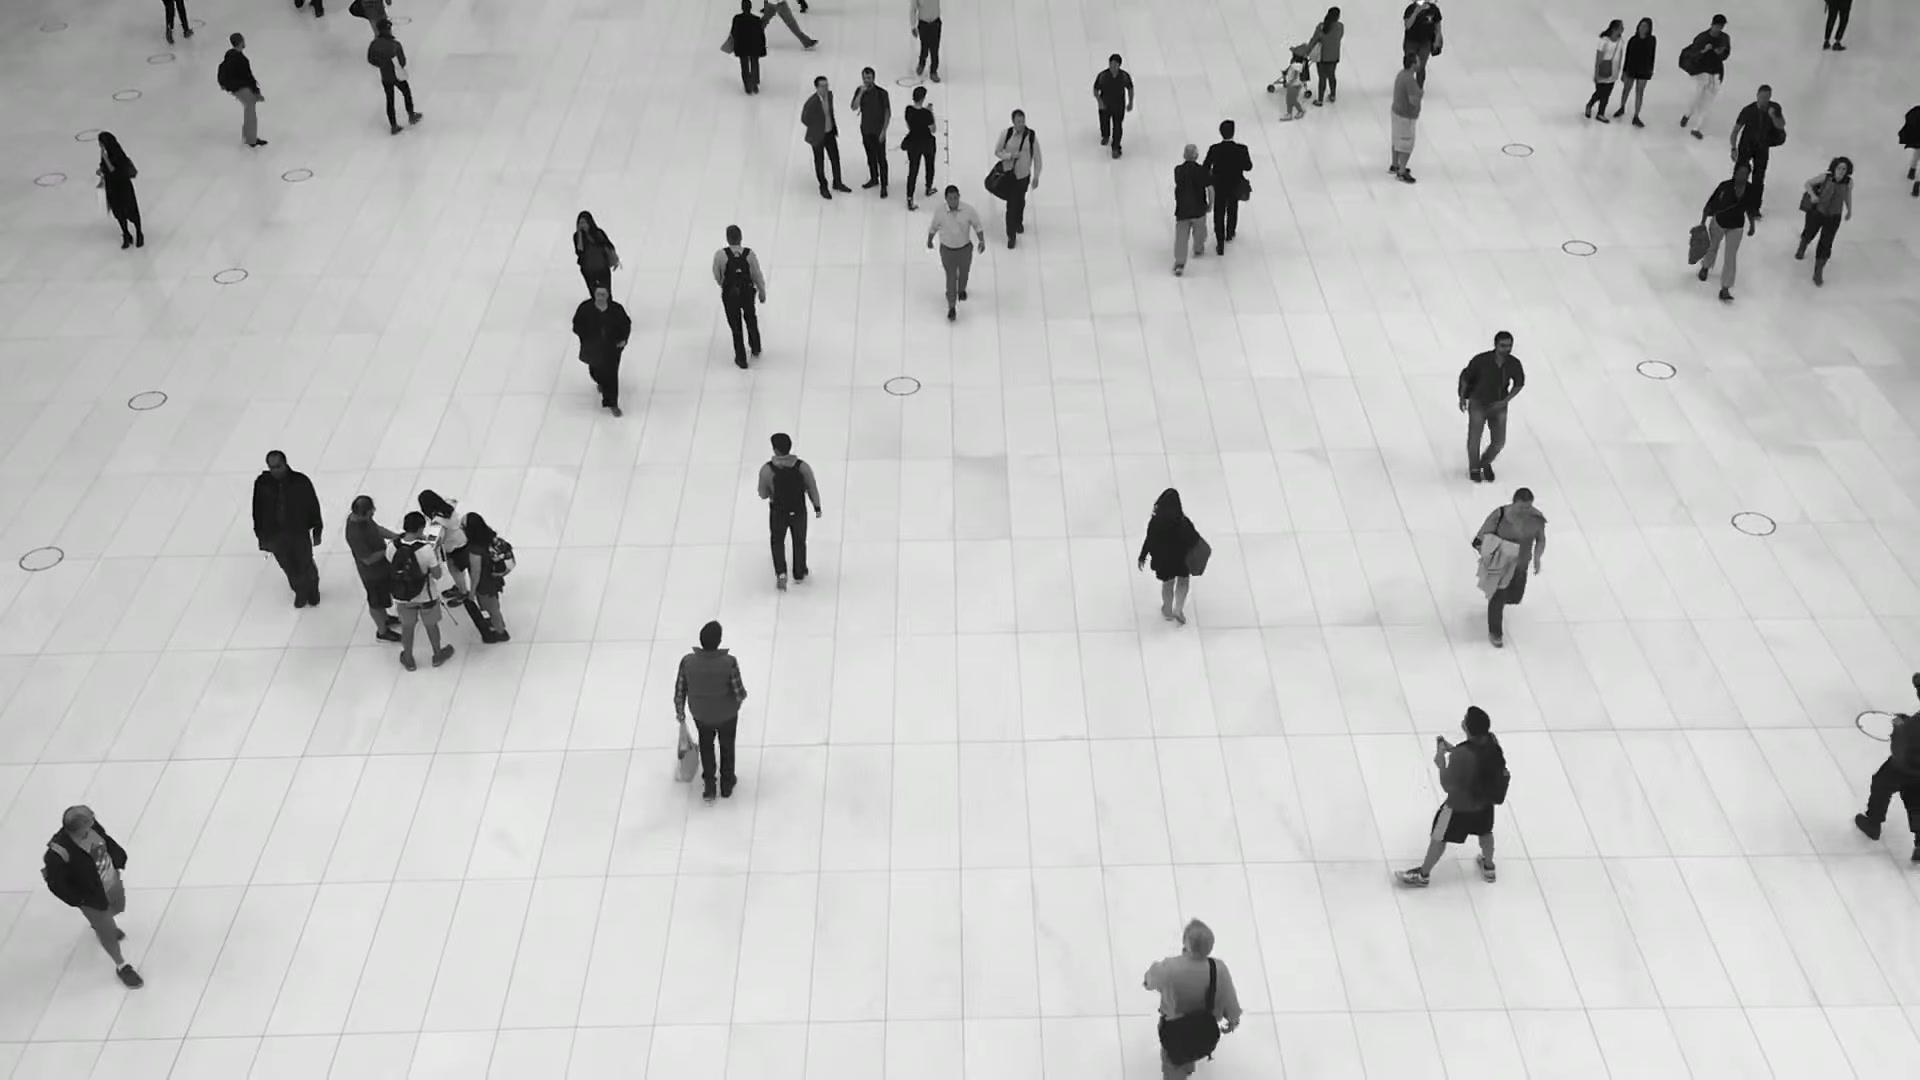person: (38, 802, 147, 988), (1395, 706, 1501, 888), (1141, 916, 1242, 1080), (671, 619, 748, 807), (1471, 486, 1548, 648), (253, 455, 326, 623), (384, 511, 454, 672), (1456, 331, 1526, 489), (756, 433, 821, 590), (1138, 488, 1211, 628), (708, 225, 767, 370), (1697, 161, 1756, 302), (570, 283, 632, 417), (344, 494, 400, 641), (1794, 154, 1855, 285), (926, 184, 985, 321), (216, 34, 279, 154), (459, 511, 513, 644), (993, 109, 1043, 247), (1677, 13, 1731, 140), (1204, 119, 1252, 255), (799, 75, 850, 201), (416, 489, 468, 607), (1170, 142, 1215, 277), (94, 130, 143, 249), (1729, 83, 1785, 183), (368, 19, 415, 133), (850, 67, 892, 198), (1613, 16, 1657, 127), (1387, 51, 1423, 184), (899, 85, 938, 209), (1092, 52, 1134, 158), (1584, 19, 1624, 126), (572, 209, 620, 297), (728, 0, 768, 94), (1308, 6, 1343, 106), (1278, 51, 1304, 122)
